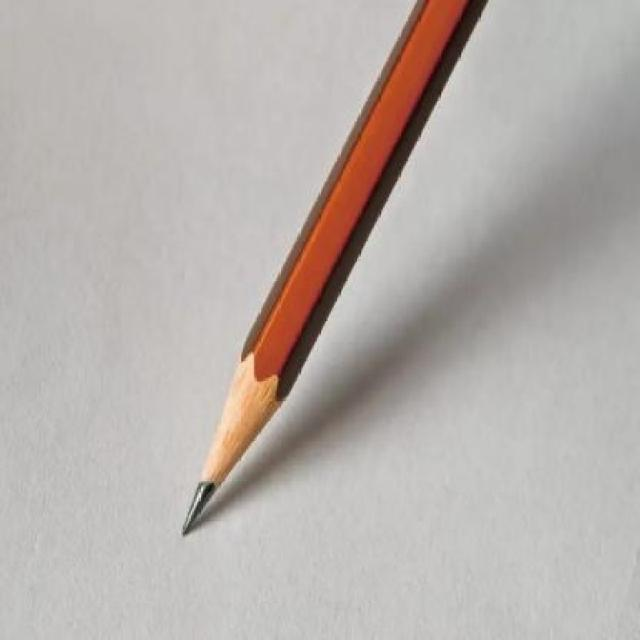pencil: (177, 2, 494, 543)
